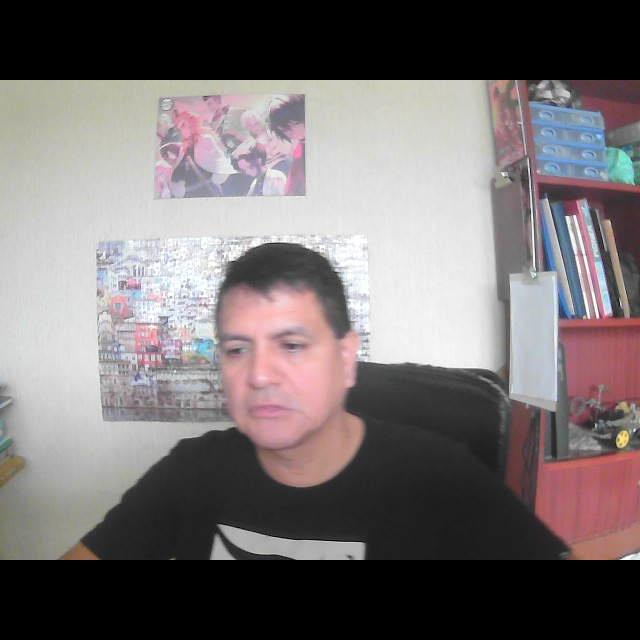cesar: (199, 233, 377, 495)
